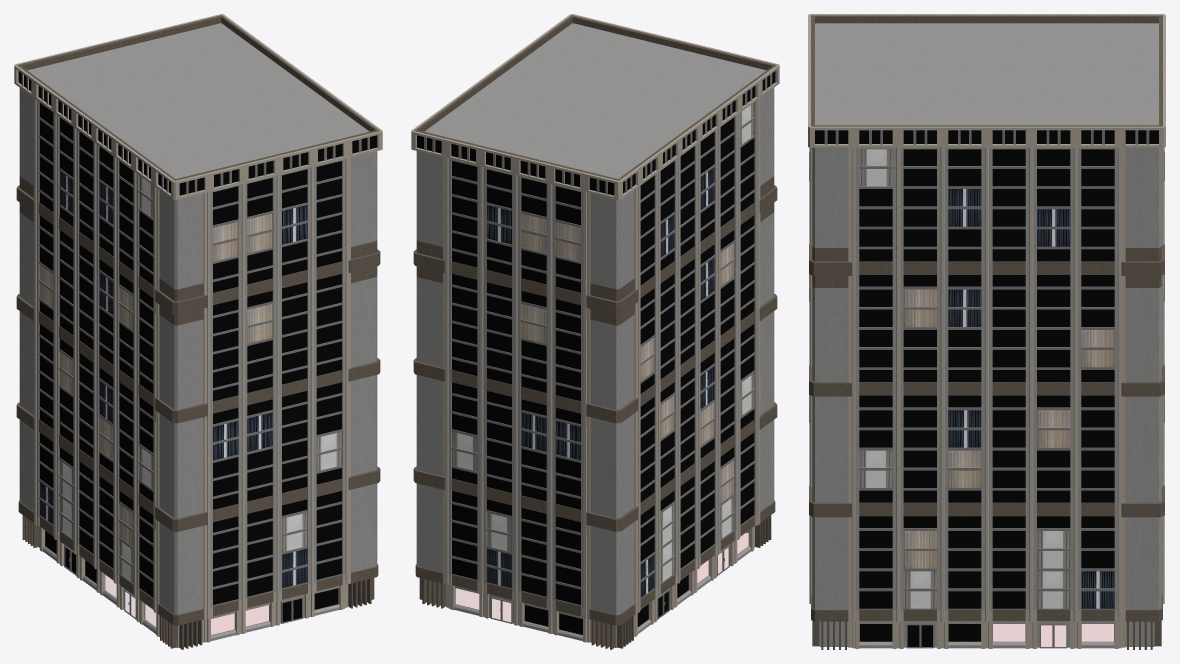
The model's file is Building01.fbx.
3 views of the same model, side by side, from view 1: azimuth 30°, elevation 25°; view 2: azimuth 150°, elevation 25°; view 3: azimuth 270°, elevation 25° (orthographic). The views are drawn at different scales.
Visible parts, largest first — view 1: Building01; view 2: Building01; view 3: Building01.
Part boxes in pixels (x1,y1,x2,y2): Building01: (14, 14, 382, 649); Building01: (411, 14, 779, 649); Building01: (808, 14, 1165, 649).
Size of the model in its own units: 3638 by 7819 by 4838.
